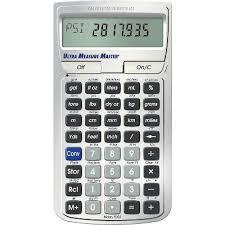Calculator: (48, 0, 178, 225)
